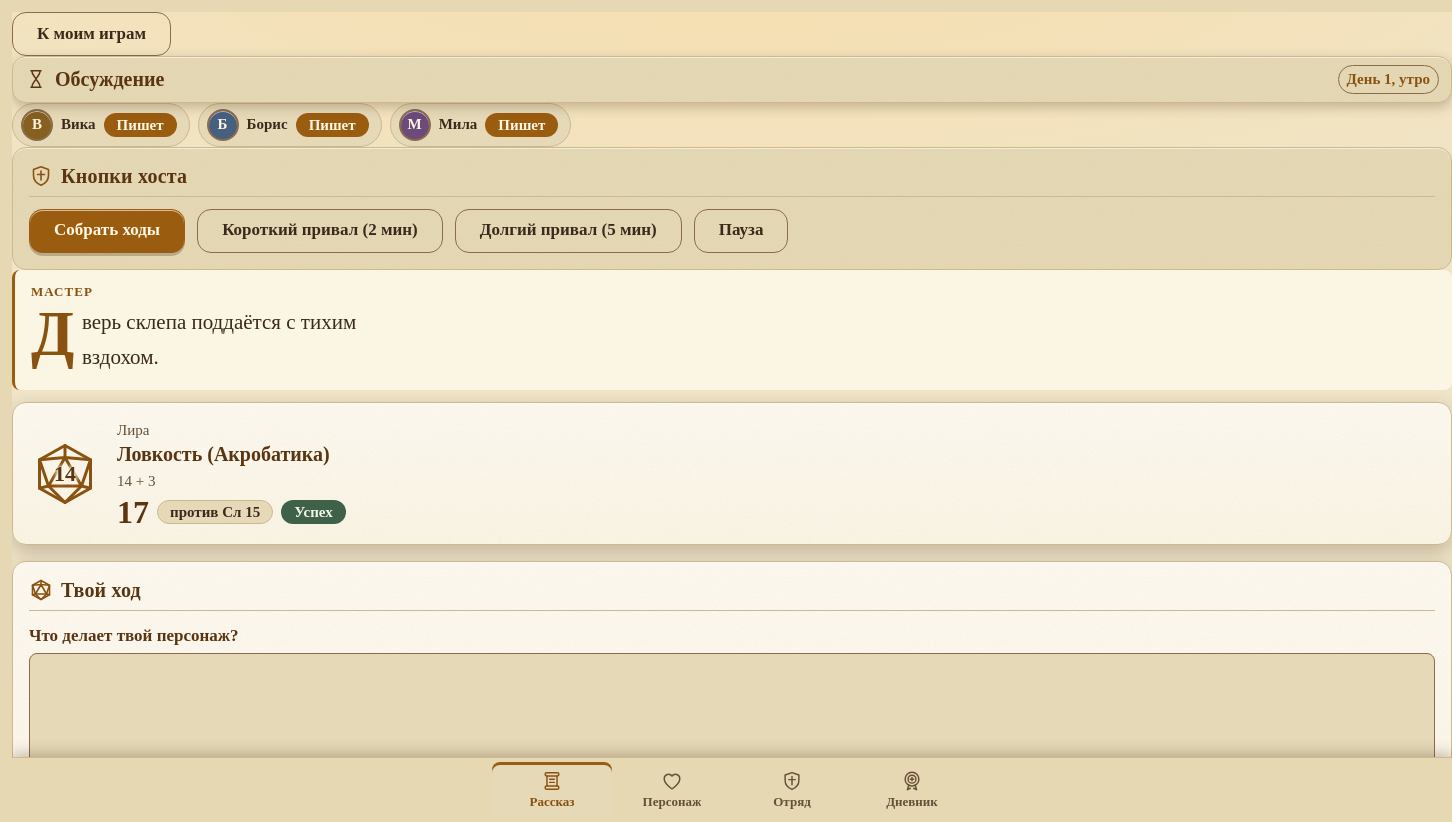
Test: обрыв связи на экране игры › обрыв не сбрасывает дневник: раздел и отметки остаются, снимок после возврата обновляет записи
Click the tab "Дневник" at (912, 790), box x1=852 y1=762 x2=972 y2=818
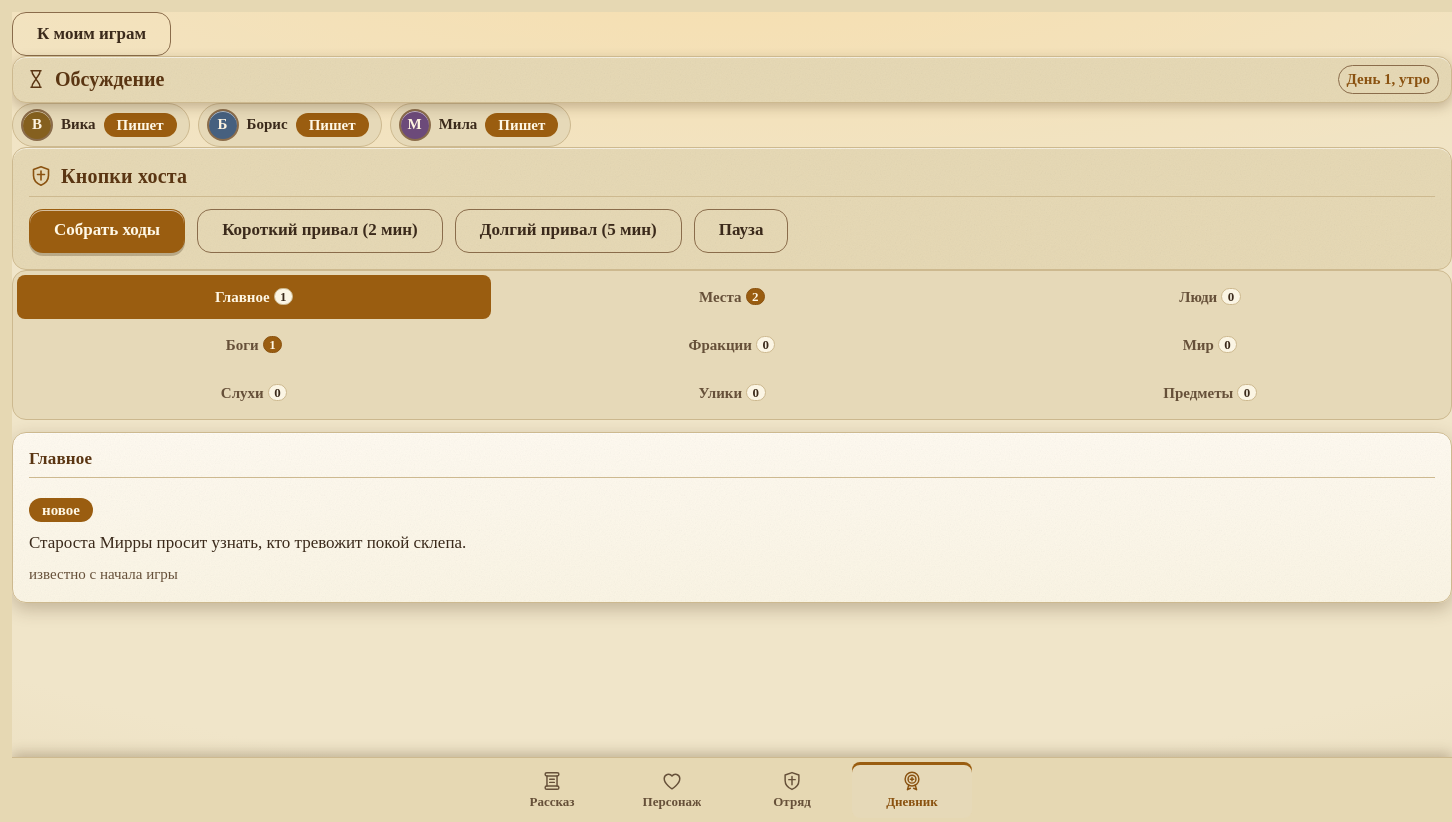
Click the tab "Места 2" at (732, 296), box x1=495 y1=274 x2=969 y2=318
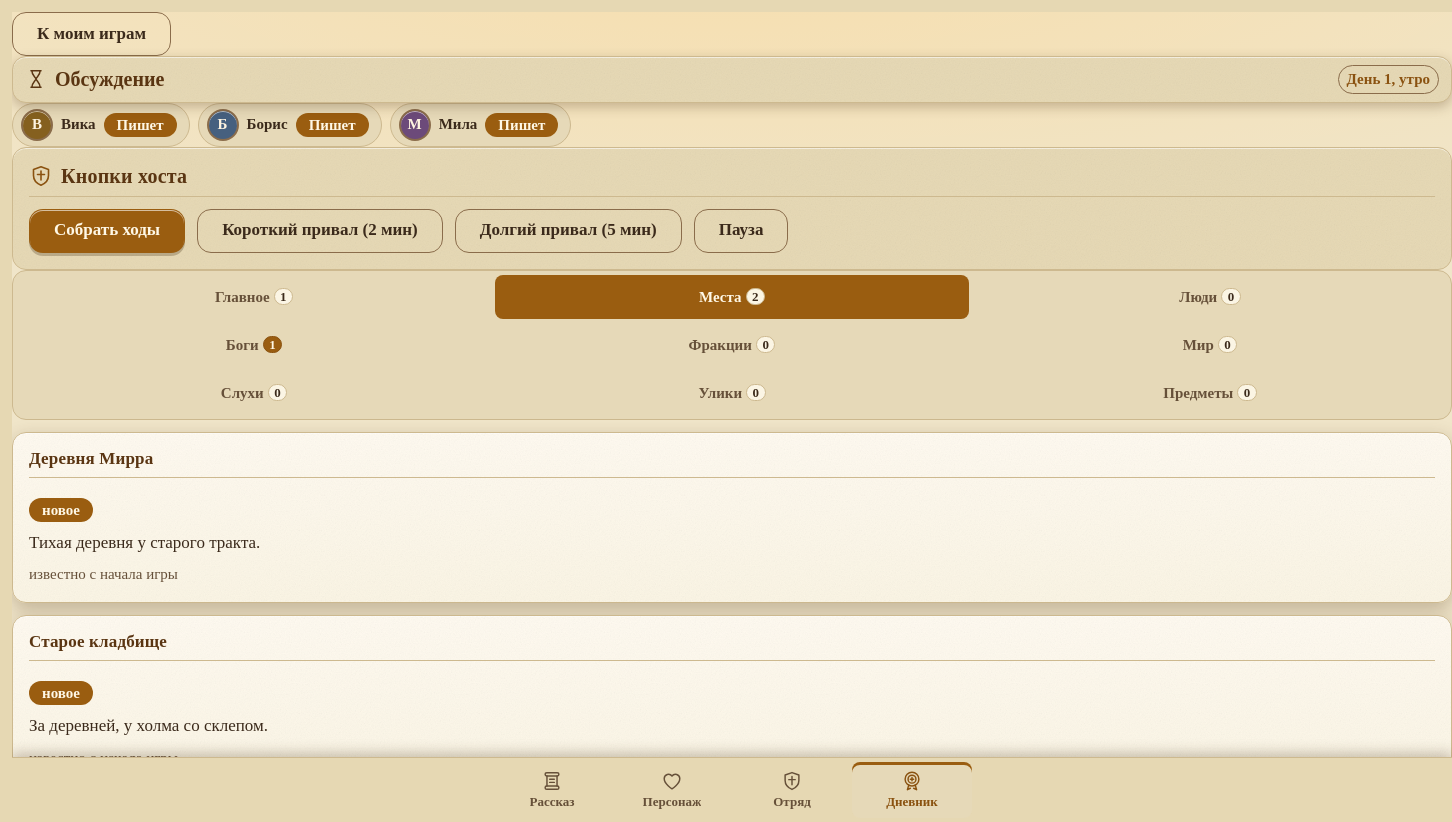
Click the tab "Главное 1" at (254, 296), box x1=17 y1=274 x2=491 y2=318
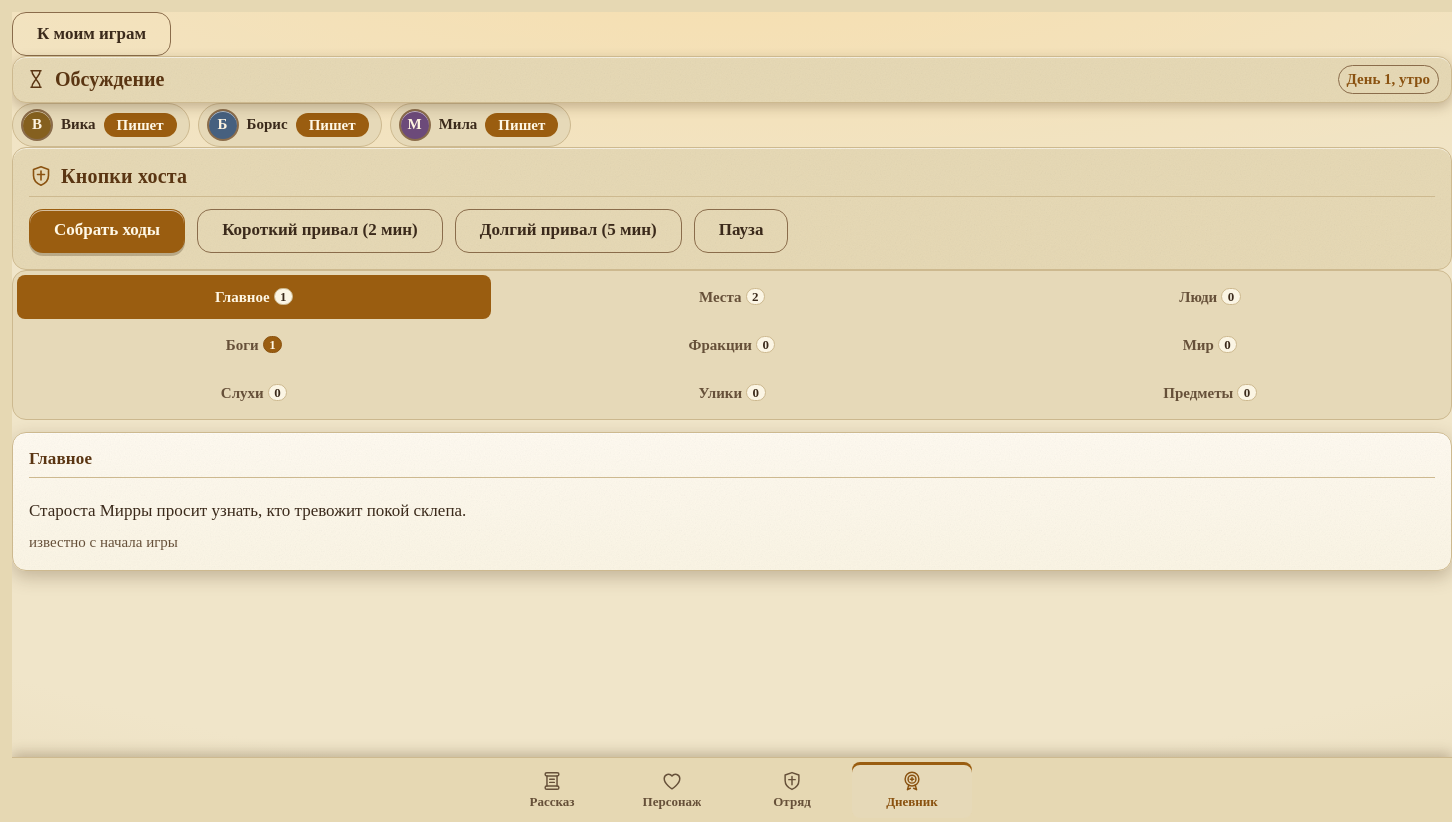
Click the tab "Места 2" at (732, 296), box x1=495 y1=274 x2=969 y2=318
Wait 1000 ms
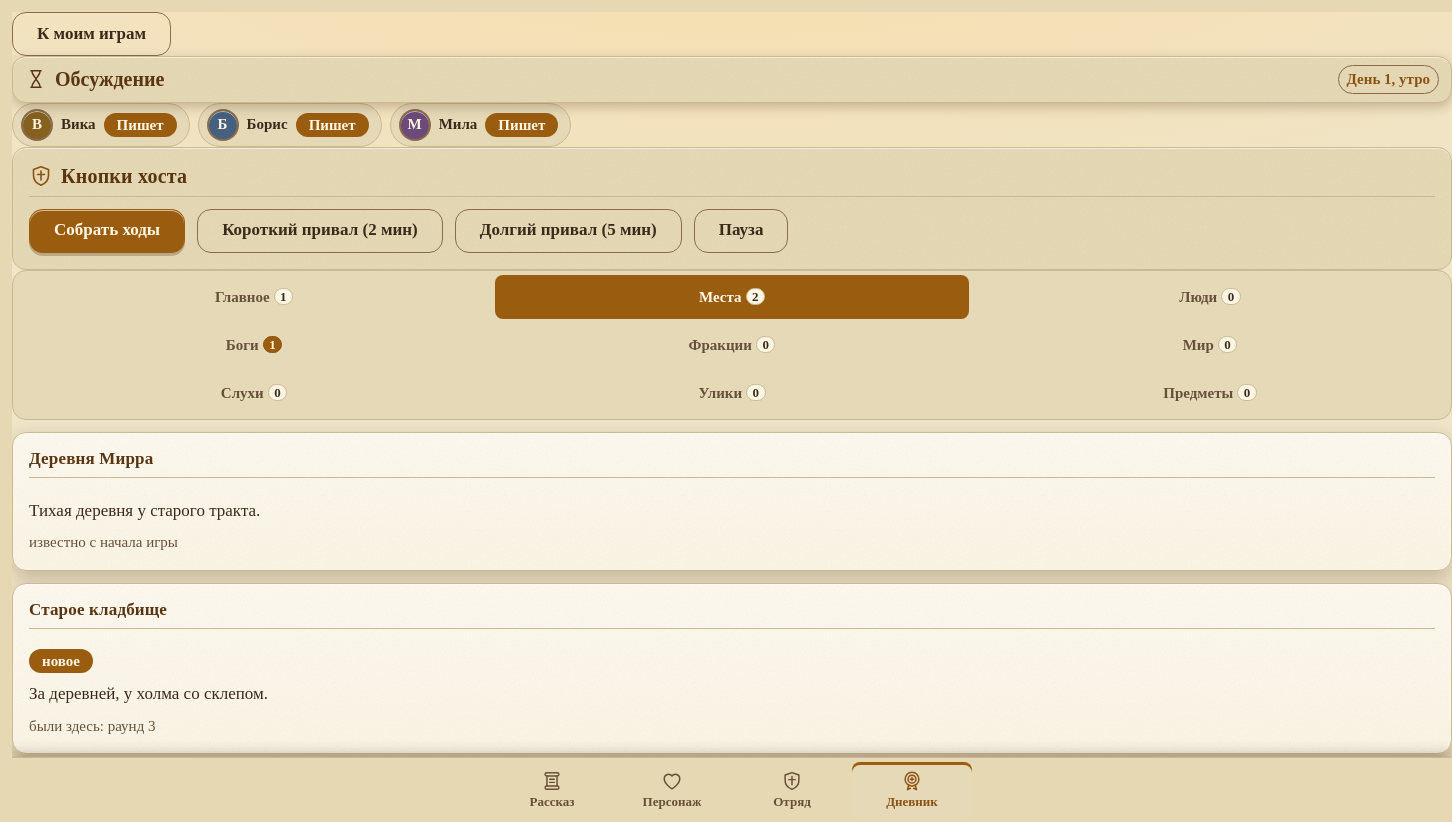
Check: the text "были здесь: раунд 3" is shown, box x1=29 y1=718 x2=156 y2=734
Check: the text "новое" is shown, box x1=29 y1=649 x2=93 y2=673
